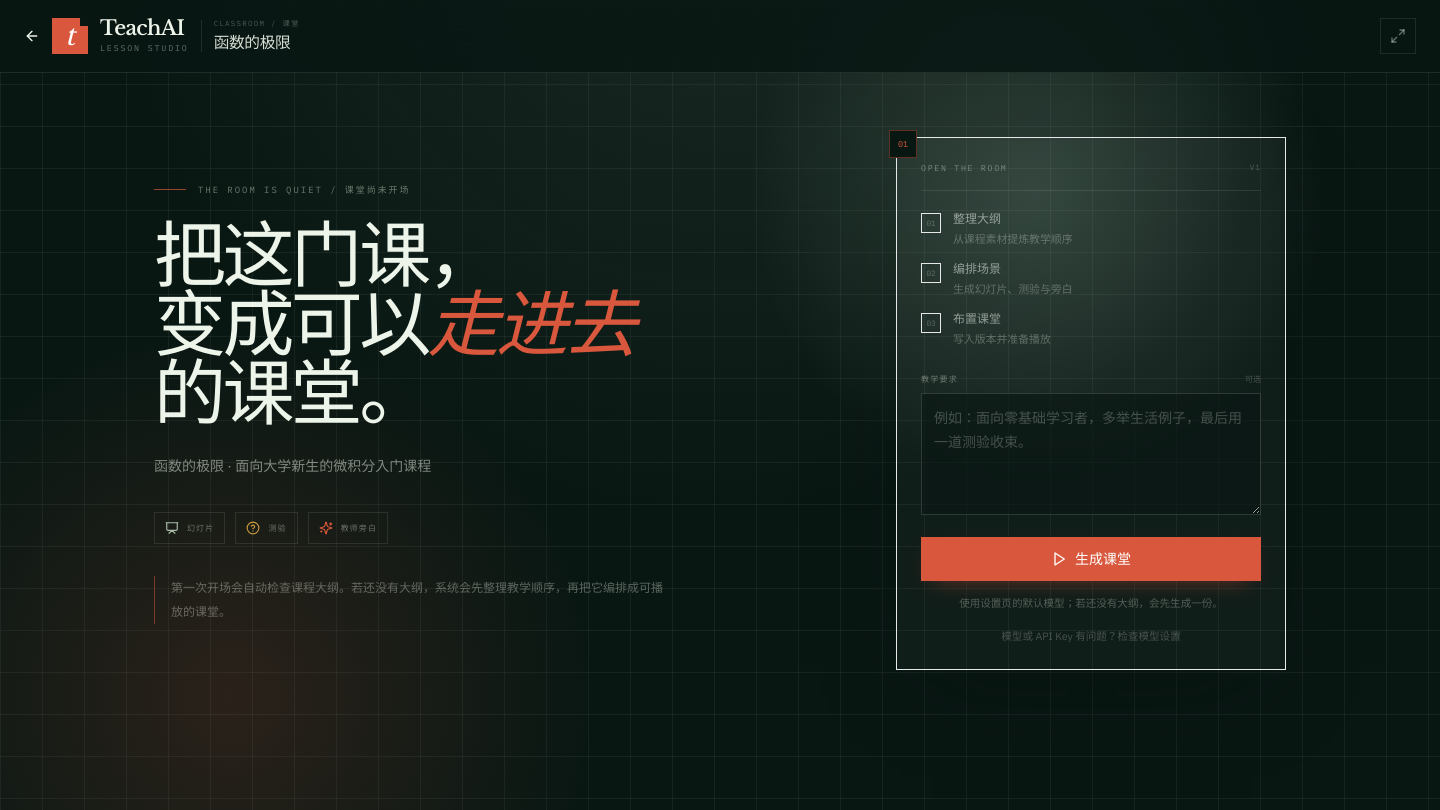
ClassroomExperience › shows a helpful error when outline generation fails
Click the button "生成课堂".
click(1091, 560)  # box x1=921 y1=538 x2=1261 y2=582
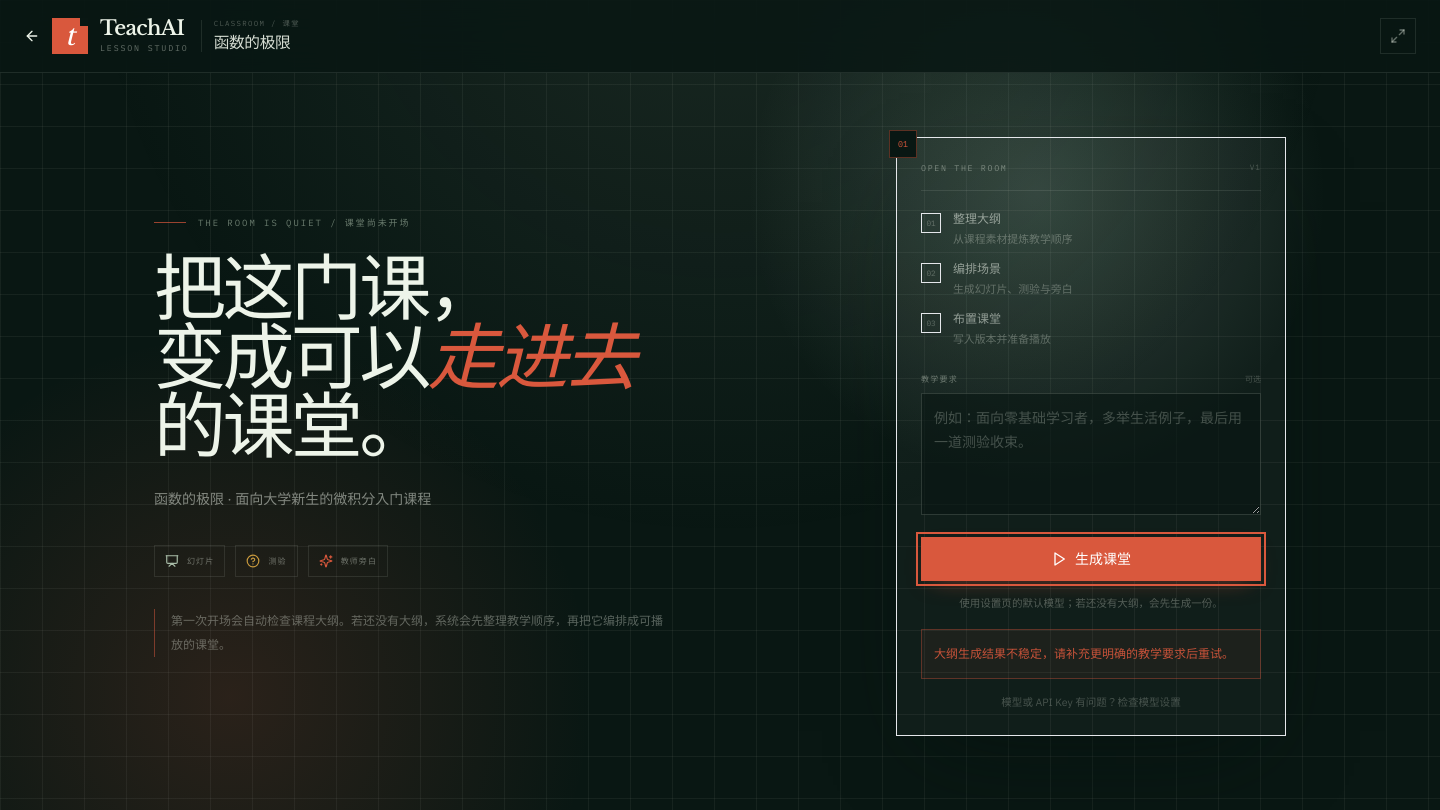
Now the message reads "大纲生成结果不稳定，请补充更明确的教学要求后重试。", box x1=934 y1=646 x2=1234 y2=662
